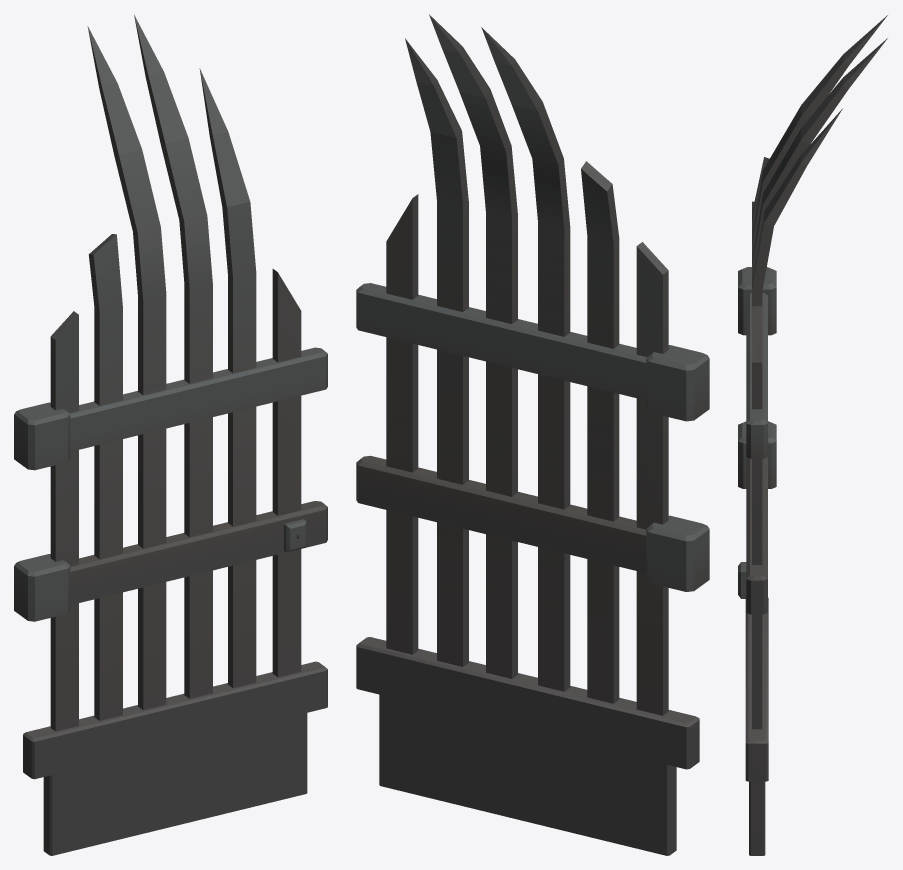
The model's file is Fence_01_Gate_01.fbx.
3 renders of one model, left to right at view 1: azimuth 30°, elevation 25°; view 2: azimuth 150°, elevation 25°; view 3: azimuth 270°, elevation 25°, orthographic. The views are drawn at different scales.
Visible parts, largest first — view 1: Fence_01_Gate_01; view 2: Fence_01_Gate_01; view 3: Fence_01_Gate_01.
Part boxes in pixels (x1,y1,x2,y2): Fence_01_Gate_01: (14,14,327,855); Fence_01_Gate_01: (356,14,709,855); Fence_01_Gate_01: (738,15,887,855).
Size of the model in its own units: 148 by 353 by 62.8.
